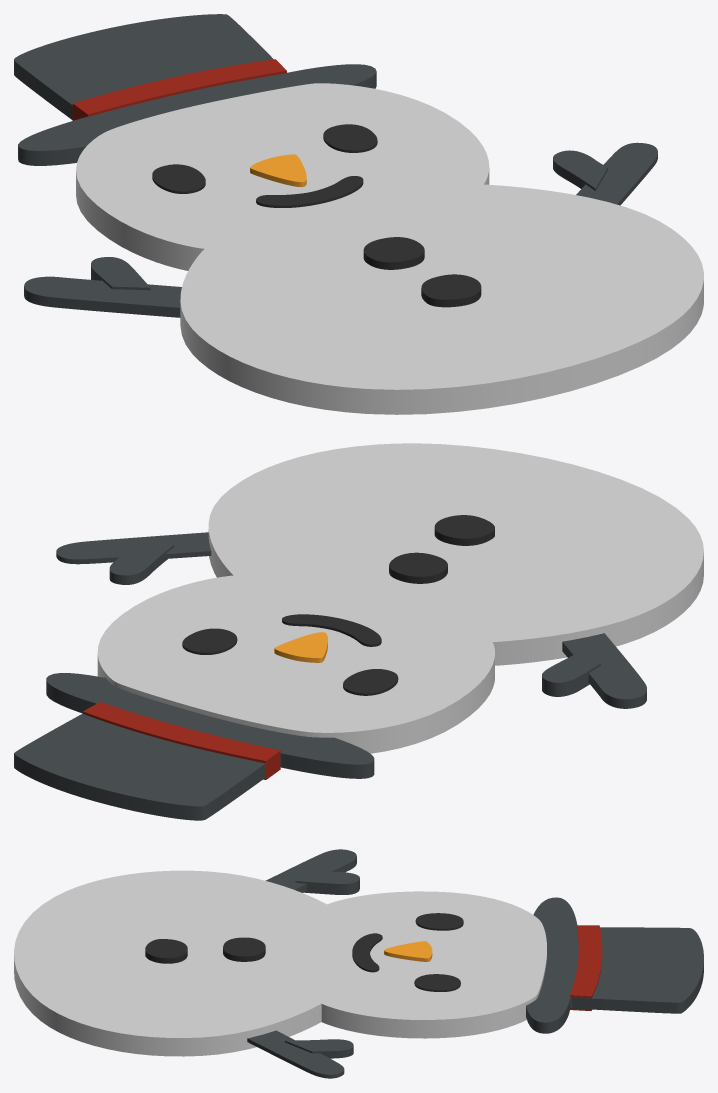
Rendered from emoji_u26c4.glb.
3 views of the same model, one above another, from view 1: azimuth 30°, elevation 25°; view 2: azimuth 150°, elevation 25°; view 3: azimuth 270°, elevation 25° (orthographic). The views are drawn at different scales.
Parts seen in each view (by area): view 1: emoji_u26c4; view 2: emoji_u26c4; view 3: emoji_u26c4.
Boxes of the visible parts, x1,y1,x2,y2 form: emoji_u26c4: [14, 14, 703, 414]; emoji_u26c4: [14, 443, 703, 820]; emoji_u26c4: [14, 849, 703, 1078].
Bounding box in the file's own units: 0.026 × 0.0016 × 0.0339.
